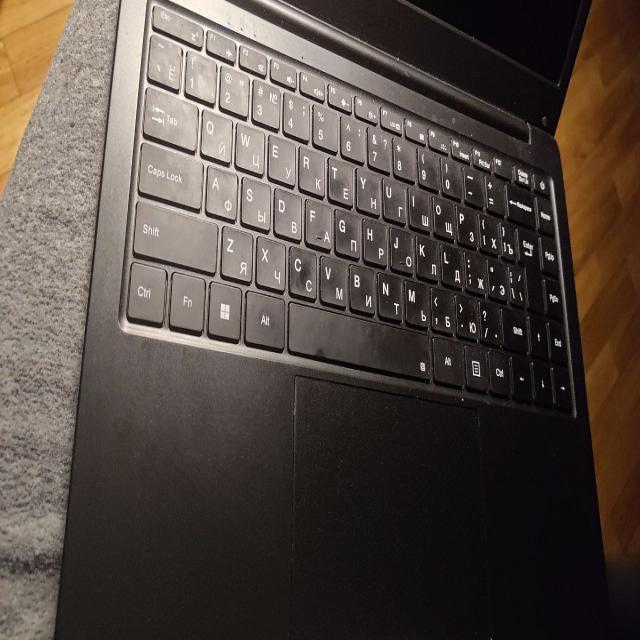other: (290, 246, 320, 304), (304, 337, 332, 371)
